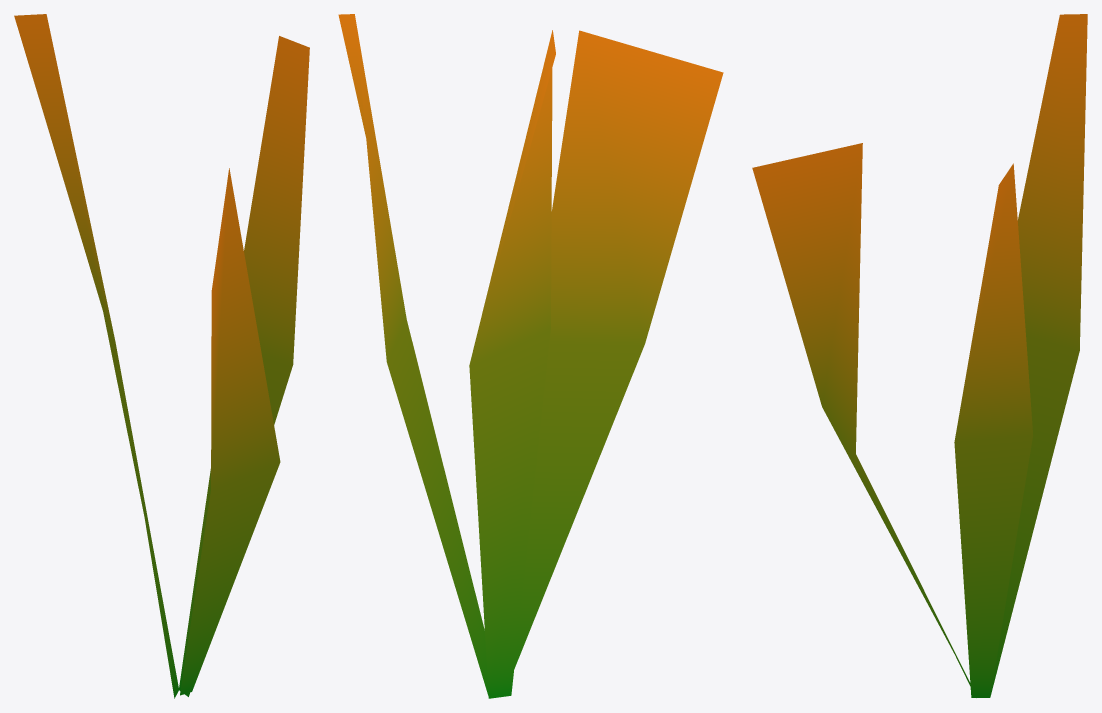
The model's file is Common Eelgrass_LOD3_Var6_sjglk.fbx.
3 views of the same model, side by side, from view 1: azimuth 30°, elevation 25°; view 2: azimuth 150°, elevation 25°; view 3: azimuth 270°, elevation 25° (orthographic). The views are drawn at different scales.
Parts seen in each view (by area): view 1: _9a1d_Var6_LOD3; view 2: _9a1d_Var6_LOD3; view 3: _9a1d_Var6_LOD3.
Boxes of the visible parts, x1,y1,x2,y2 form: _9a1d_Var6_LOD3: [14, 14, 309, 698]; _9a1d_Var6_LOD3: [338, 14, 723, 698]; _9a1d_Var6_LOD3: [752, 14, 1087, 697].
Bounding box in the file's own units: 33.47 × 86.38 × 41.1.
